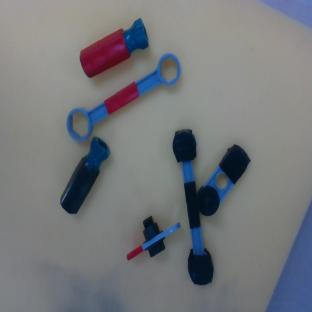part_1_bad: (187, 141, 255, 219)
part_1_good: (120, 206, 181, 273)
part_2_bad: (55, 135, 114, 217)
part_2_good: (74, 17, 155, 81)
part_3_bad: (169, 129, 215, 286)
part_3_good: (59, 48, 187, 144)
